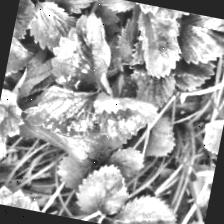Powdery Mildew Leaf: (46, 5, 130, 99), (19, 77, 106, 142), (88, 92, 160, 152), (198, 112, 224, 155)
